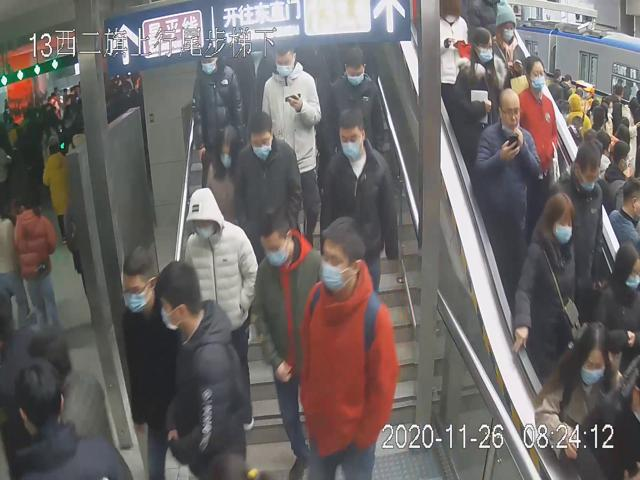person: (300, 211, 398, 476), (157, 259, 259, 480), (253, 203, 324, 476), (183, 184, 259, 431), (322, 101, 406, 287), (119, 244, 184, 478), (511, 186, 579, 392), (261, 43, 325, 249), (470, 86, 540, 267), (236, 110, 301, 250), (322, 43, 384, 165), (452, 23, 499, 150), (208, 124, 246, 230)
